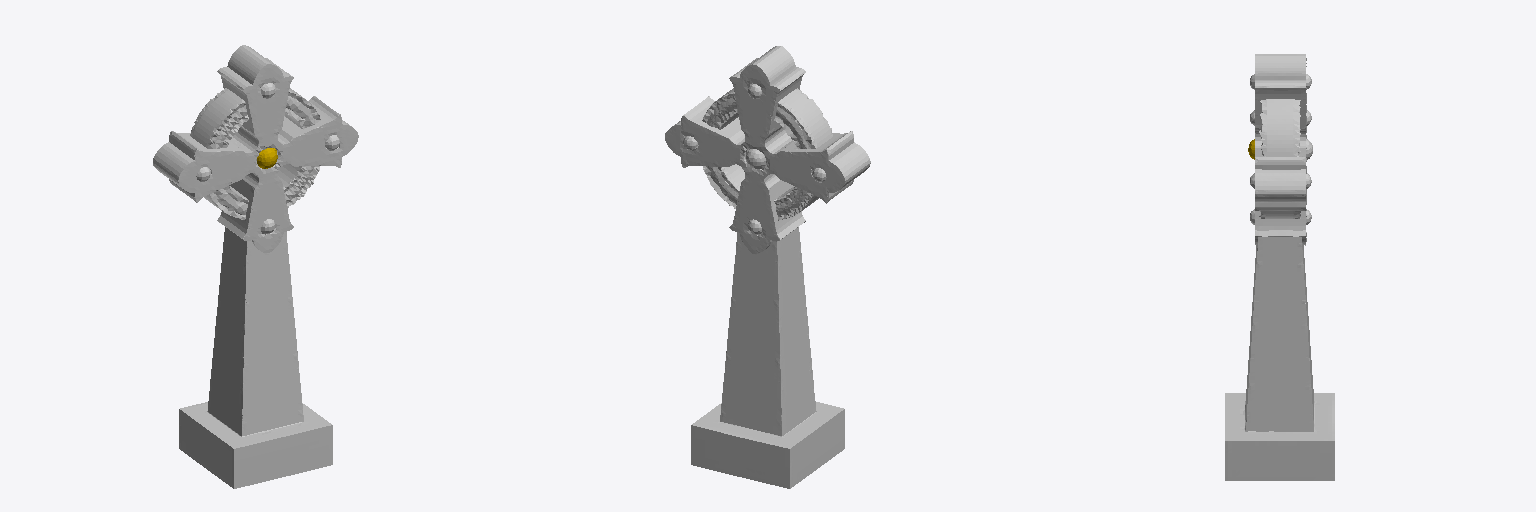
Rendered from tombe4.obj.
3 views of the same model, side by side, from view 1: azimuth 30°, elevation 25°; view 2: azimuth 150°, elevation 25°; view 3: azimuth 270°, elevation 25° (orthographic).
Visible parts, largest first — view 1: 17146_Celtic_Cross_Tombstone_new; view 2: 17146_Celtic_Cross_Tombstone_new; view 3: 17146_Celtic_Cross_Tombstone_new.
Boxes of the visible parts, x1,y1,x2,y2 form: 17146_Celtic_Cross_Tombstone_new: [153, 45, 358, 488]; 17146_Celtic_Cross_Tombstone_new: [665, 46, 870, 488]; 17146_Celtic_Cross_Tombstone_new: [1225, 54, 1334, 480].
Bounding box in the file's own units: 5.31 × 11.27 × 2.81.